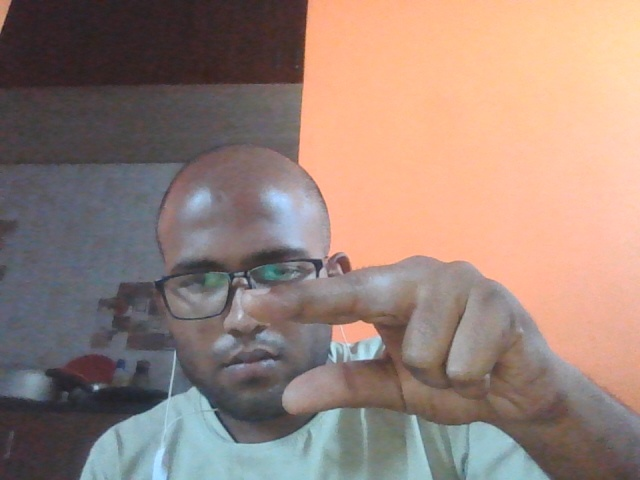no: (226, 237, 590, 451)
